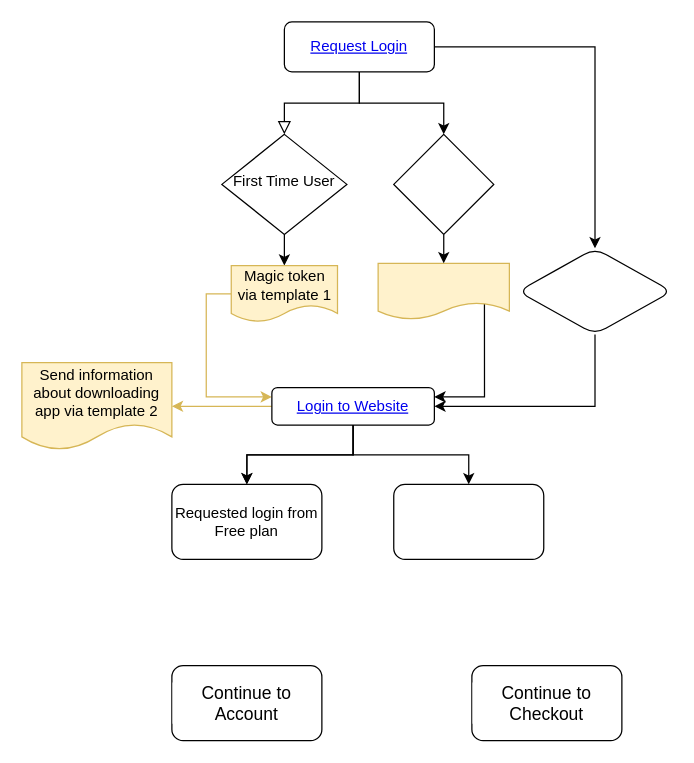
Some shapes in this 694 by 763 pixel diagram are drawn without their labels. The centre of each missing label's shape, as x and y in pixels:
"Account Exists" belongs at point 443,183.
"Magic token via template 3" belongs at point 443,291.
"Requested login from Pro plan" belongs at point 468,521.
"T1V App direct authentication" belongs at point 594,290.
